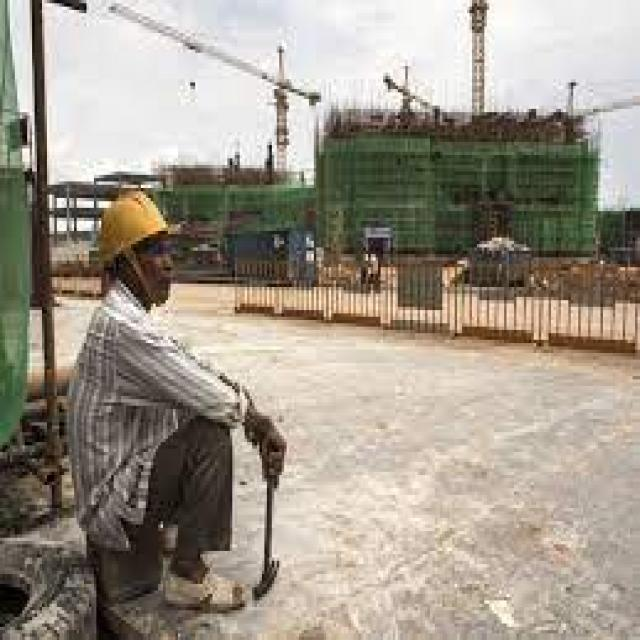Safety-Helmet: (76, 178, 188, 281)
